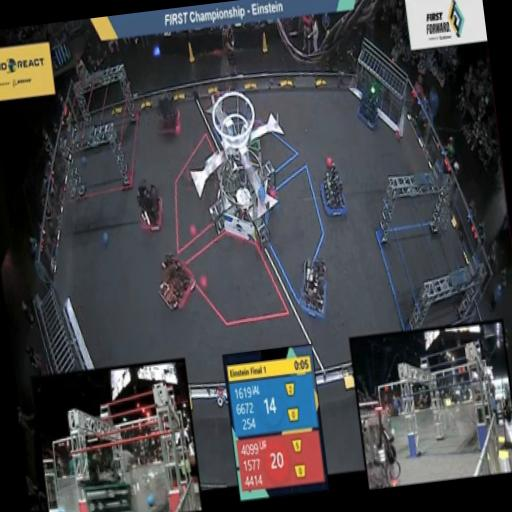robot: (150, 237, 206, 322), (290, 244, 340, 322), (313, 146, 352, 220), (130, 172, 168, 234), (349, 76, 388, 134), (148, 86, 186, 142)
